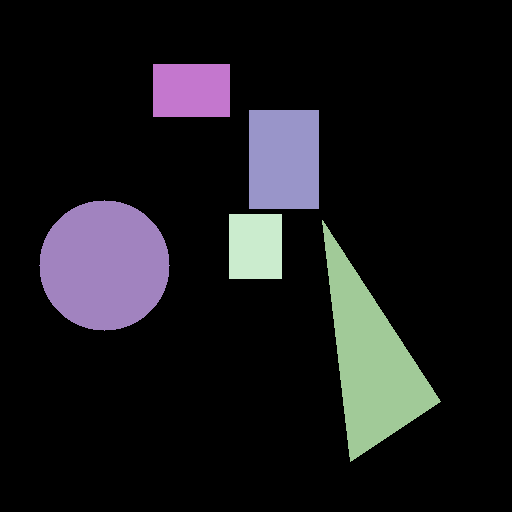circle: (39, 200, 169, 330)
rectangle: (249, 110, 318, 208), (153, 64, 229, 116), (229, 214, 281, 278)
triangle: (322, 220, 440, 461)
